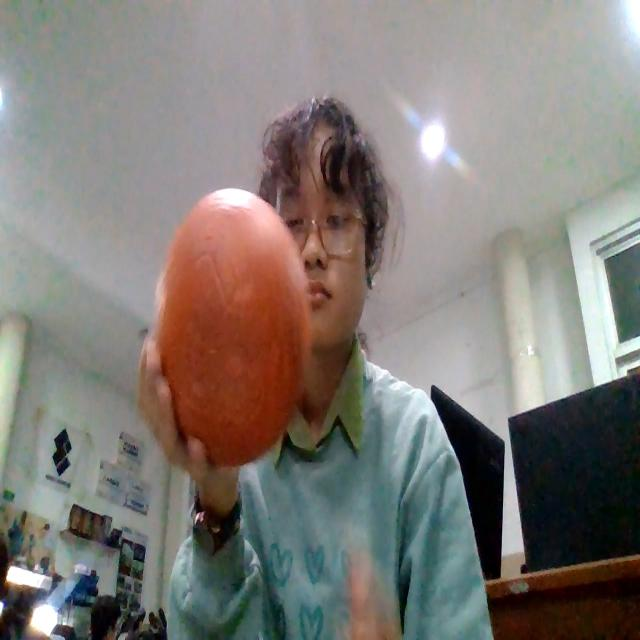ball: (156, 187, 310, 453)
